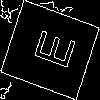E: (25, 24, 76, 71)
